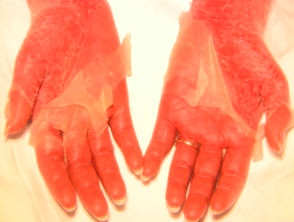SJS-TEN: (0, 0, 158, 208), (161, 0, 294, 172)
